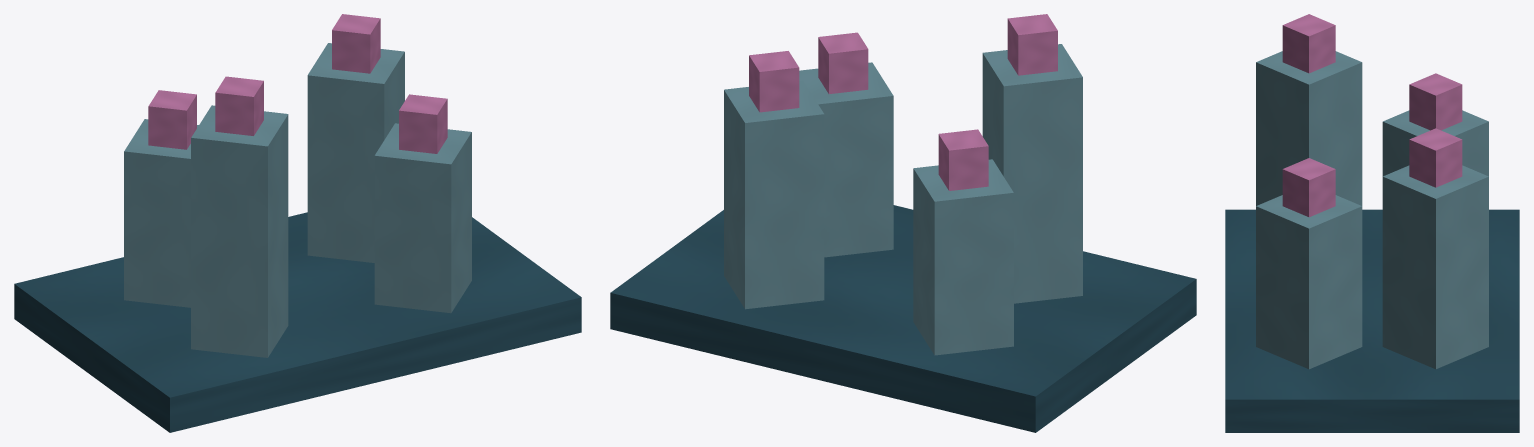
Rendered from atlas100-s061-a04.lod2.glb.
3 views of the same model, side by side, from view 1: azimuth 30°, elevation 25°; view 2: azimuth 150°, elevation 25°; view 3: azimuth 270°, elevation 25° (orthographic). The views are drawn at different scales.
Parts seen in each view (by area): view 1: atlas100-s061-a04:part-000, atlas100-s061-a04:part-007, atlas100-s061-a04:part-010, atlas100-s061-a04:part-004, atlas100-s061-a04:part-001, atlas100-s061-a04:part-008, atlas100-s061-a04:part-011, atlas100-s061-a04:part-005, atlas100-s061-a04:part-002; view 2: atlas100-s061-a04:part-000, atlas100-s061-a04:part-004, atlas100-s061-a04:part-007, atlas100-s061-a04:part-001, atlas100-s061-a04:part-010, atlas100-s061-a04:part-008, atlas100-s061-a04:part-002, atlas100-s061-a04:part-005, atlas100-s061-a04:part-011; view 3: atlas100-s061-a04:part-000, atlas100-s061-a04:part-004, atlas100-s061-a04:part-010, atlas100-s061-a04:part-007, atlas100-s061-a04:part-001, atlas100-s061-a04:part-005, atlas100-s061-a04:part-008, atlas100-s061-a04:part-011, atlas100-s061-a04:part-002.
Part boxes in pixels (bbox=[...]): atlas100-s061-a04:part-000: bbox=[14, 212, 581, 432]; atlas100-s061-a04:part-007: bbox=[191, 105, 288, 357]; atlas100-s061-a04:part-010: bbox=[374, 123, 471, 313]; atlas100-s061-a04:part-004: bbox=[307, 43, 404, 262]; atlas100-s061-a04:part-001: bbox=[124, 119, 198, 307]; atlas100-s061-a04:part-008: bbox=[215, 76, 263, 135]; atlas100-s061-a04:part-011: bbox=[399, 94, 447, 153]; atlas100-s061-a04:part-005: bbox=[332, 14, 380, 73]; atlas100-s061-a04:part-002: bbox=[148, 90, 196, 149]; atlas100-s061-a04:part-000: bbox=[610, 205, 1196, 432]; atlas100-s061-a04:part-004: bbox=[724, 80, 824, 309]; atlas100-s061-a04:part-007: bbox=[982, 44, 1082, 303]; atlas100-s061-a04:part-001: bbox=[913, 159, 1013, 355]; atlas100-s061-a04:part-010: bbox=[799, 62, 893, 257]; atlas100-s061-a04:part-008: bbox=[1007, 14, 1057, 75]; atlas100-s061-a04:part-002: bbox=[938, 129, 988, 190]; atlas100-s061-a04:part-005: bbox=[749, 51, 799, 112]; atlas100-s061-a04:part-011: bbox=[818, 32, 868, 93]; atlas100-s061-a04:part-000: bbox=[1225, 209, 1519, 432]; atlas100-s061-a04:part-004: bbox=[1382, 165, 1488, 369]; atlas100-s061-a04:part-010: bbox=[1256, 195, 1362, 369]; atlas100-s061-a04:part-007: bbox=[1256, 51, 1362, 205]; atlas100-s061-a04:part-001: bbox=[1382, 110, 1488, 176]; atlas100-s061-a04:part-005: bbox=[1409, 128, 1462, 187]; atlas100-s061-a04:part-008: bbox=[1282, 14, 1335, 73]; atlas100-s061-a04:part-011: bbox=[1282, 158, 1335, 217]; atlas100-s061-a04:part-002: bbox=[1409, 73, 1462, 130].
Size of the model in its own units: 1.18 by 0.7804 by 0.7697.
3 materials, 3 textured.
